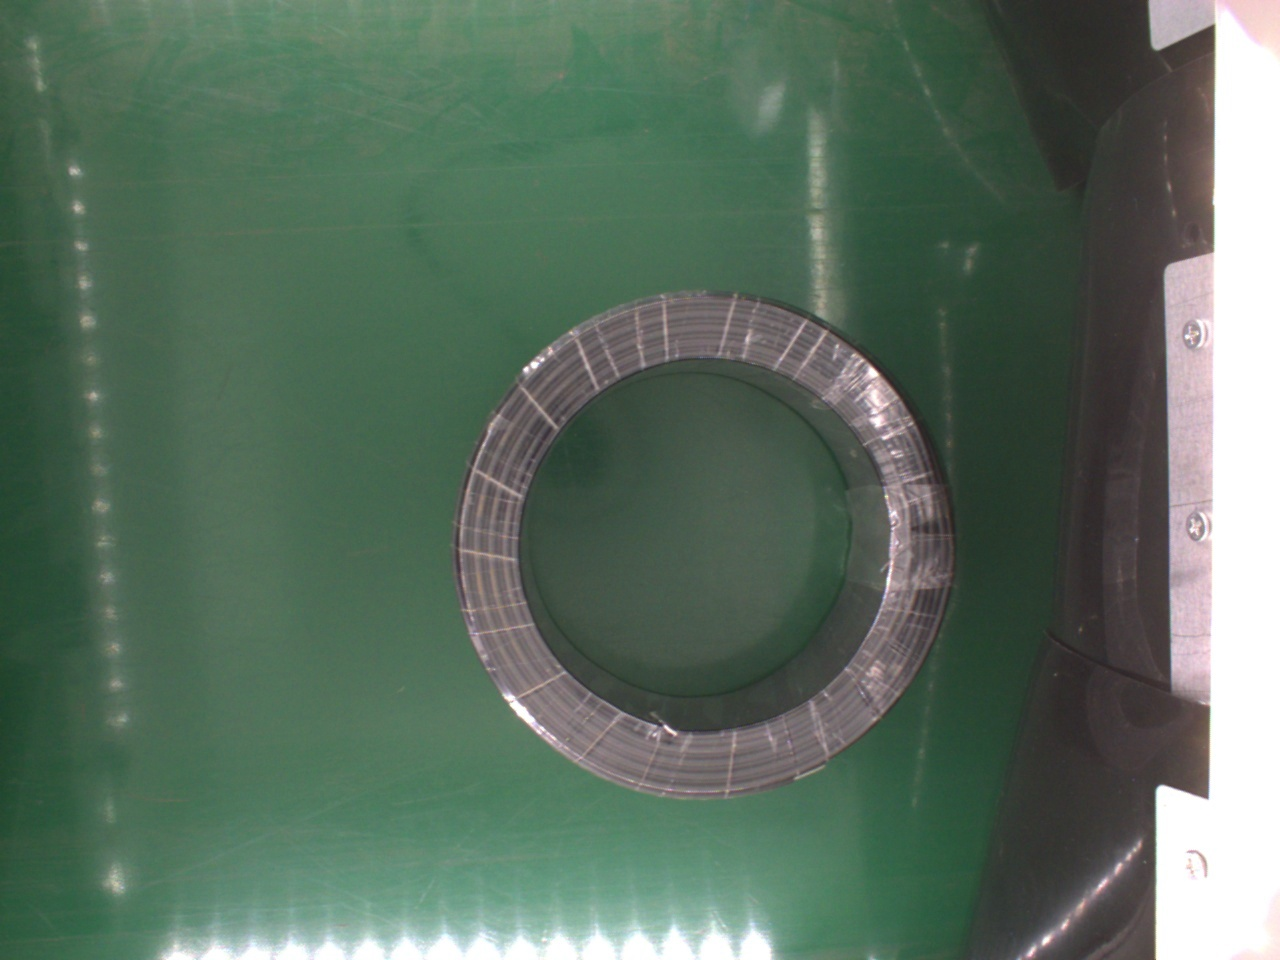black: (456, 293, 950, 798)
